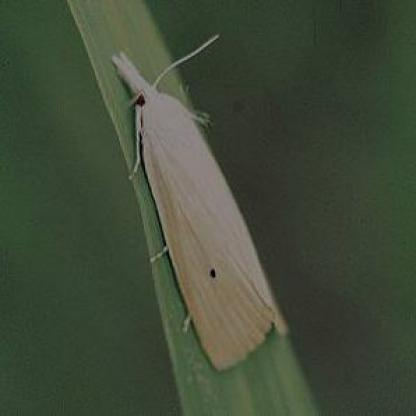stem-borer: (109, 31, 293, 375)
